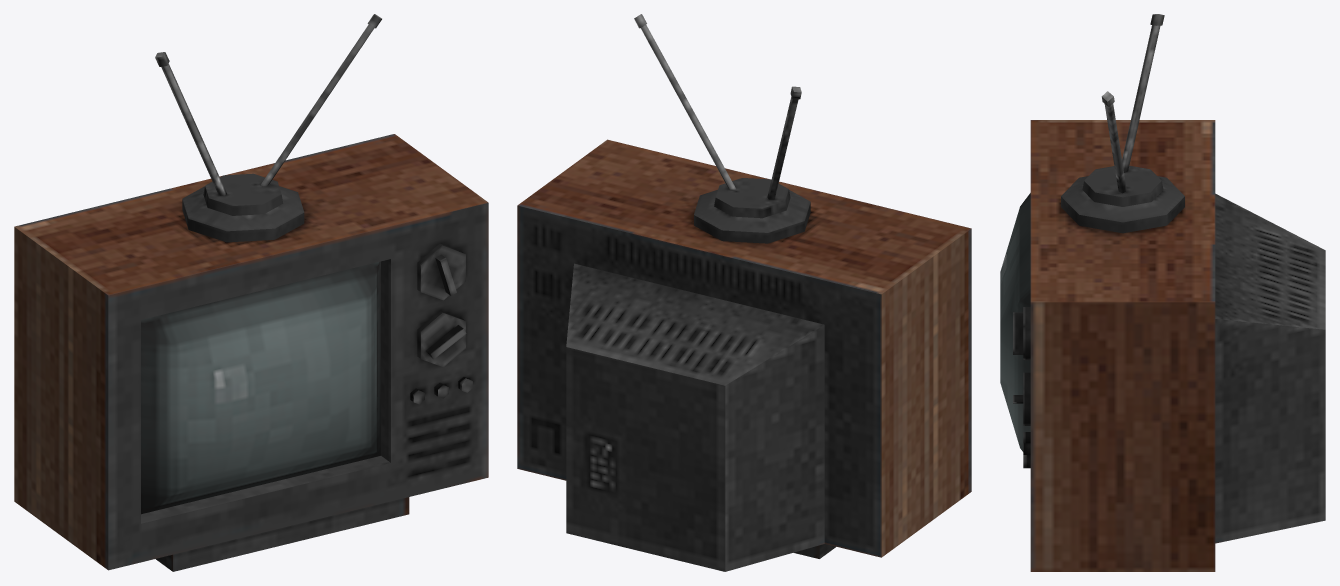
The picture shows the model from 3 angles, left to right: view 1: azimuth 30°, elevation 25°; view 2: azimuth 150°, elevation 25°; view 3: azimuth 270°, elevation 25°; orthographic projection. The views are drawn at different scales.
Visible parts, largest first — view 1: tv; view 2: tv; view 3: tv.
Boxes of the visible parts, left/top/right/bottom form: tv: left=14, top=14, right=488, bottom=571; tv: left=517, top=14, right=971, bottom=571; tv: left=1000, top=14, right=1325, bottom=571.
Bounding box in the file's own units: 66.04 × 79.25 × 49.78.
Materials: 1 (1 with a texture image).
